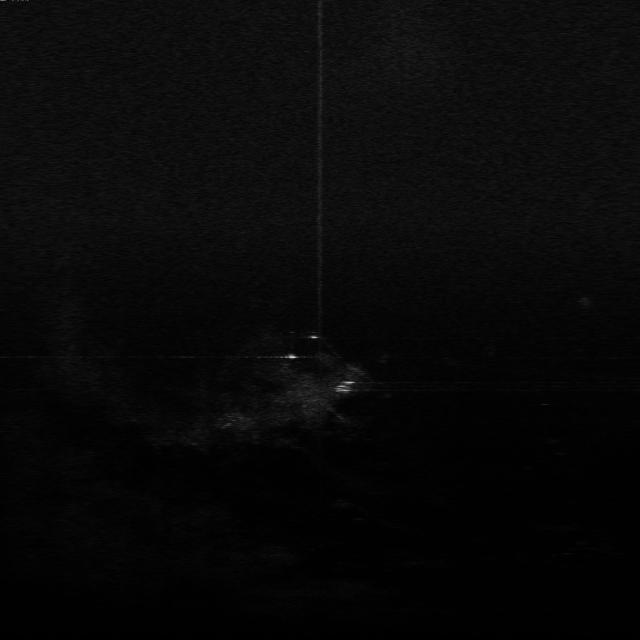rov: (330, 377, 360, 396)
